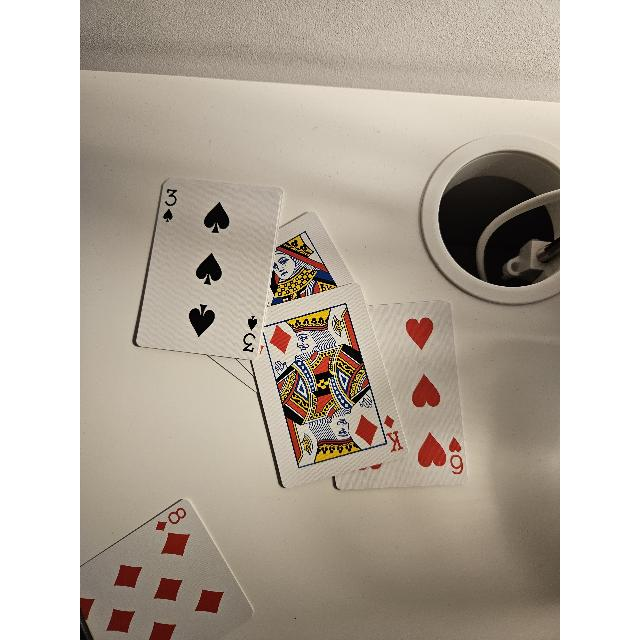3S: (242, 312, 262, 354), (165, 188, 178, 222)
6H: (449, 436, 465, 476)
8D: (156, 506, 187, 534)
KD: (382, 408, 406, 452)
